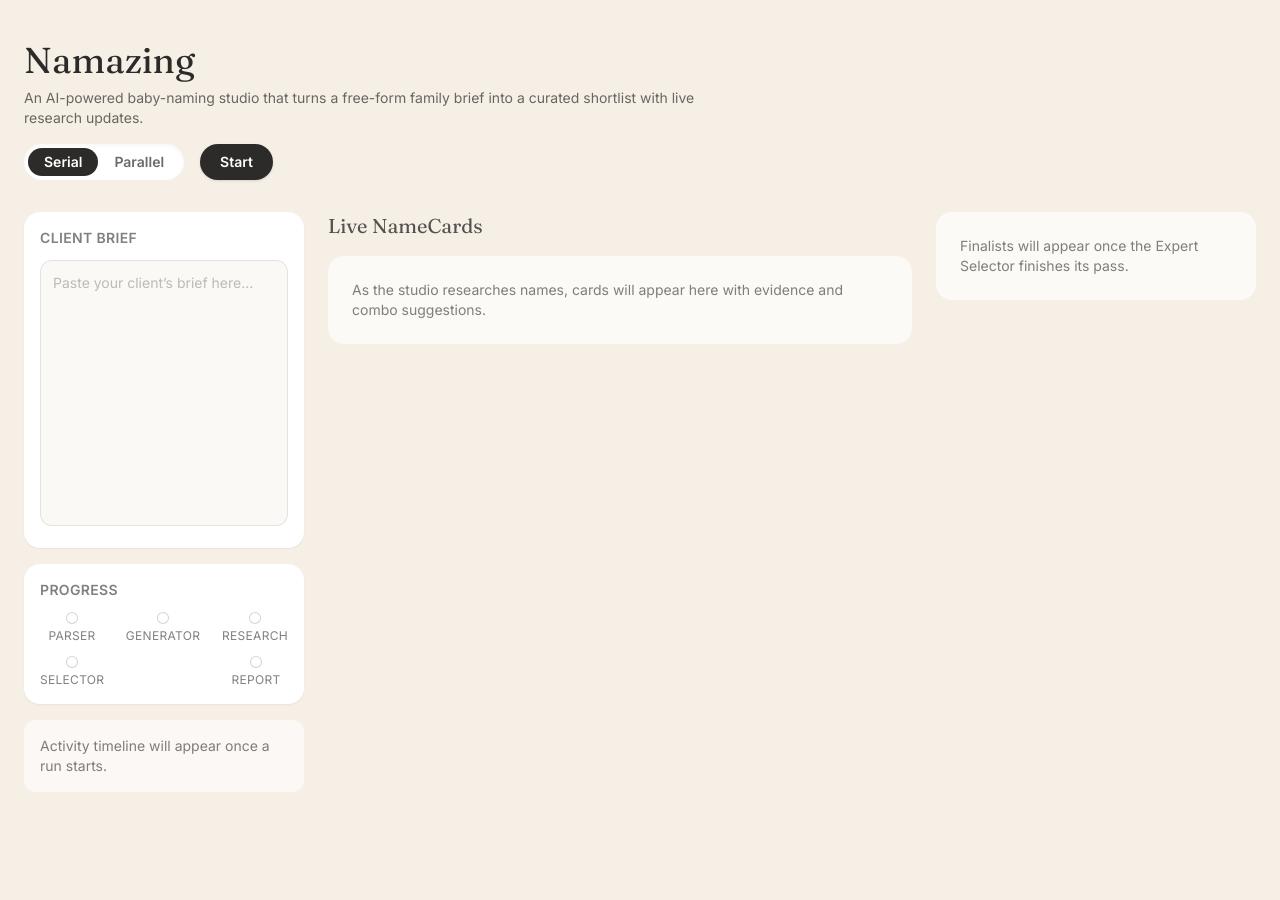
Test: StudioApp › Starting a run › shows "Running..." text while the run is in progress
Type "A brief" into the text box with placeholder "Paste your client’s brief here..." at (164, 393), box [40, 260, 288, 526]
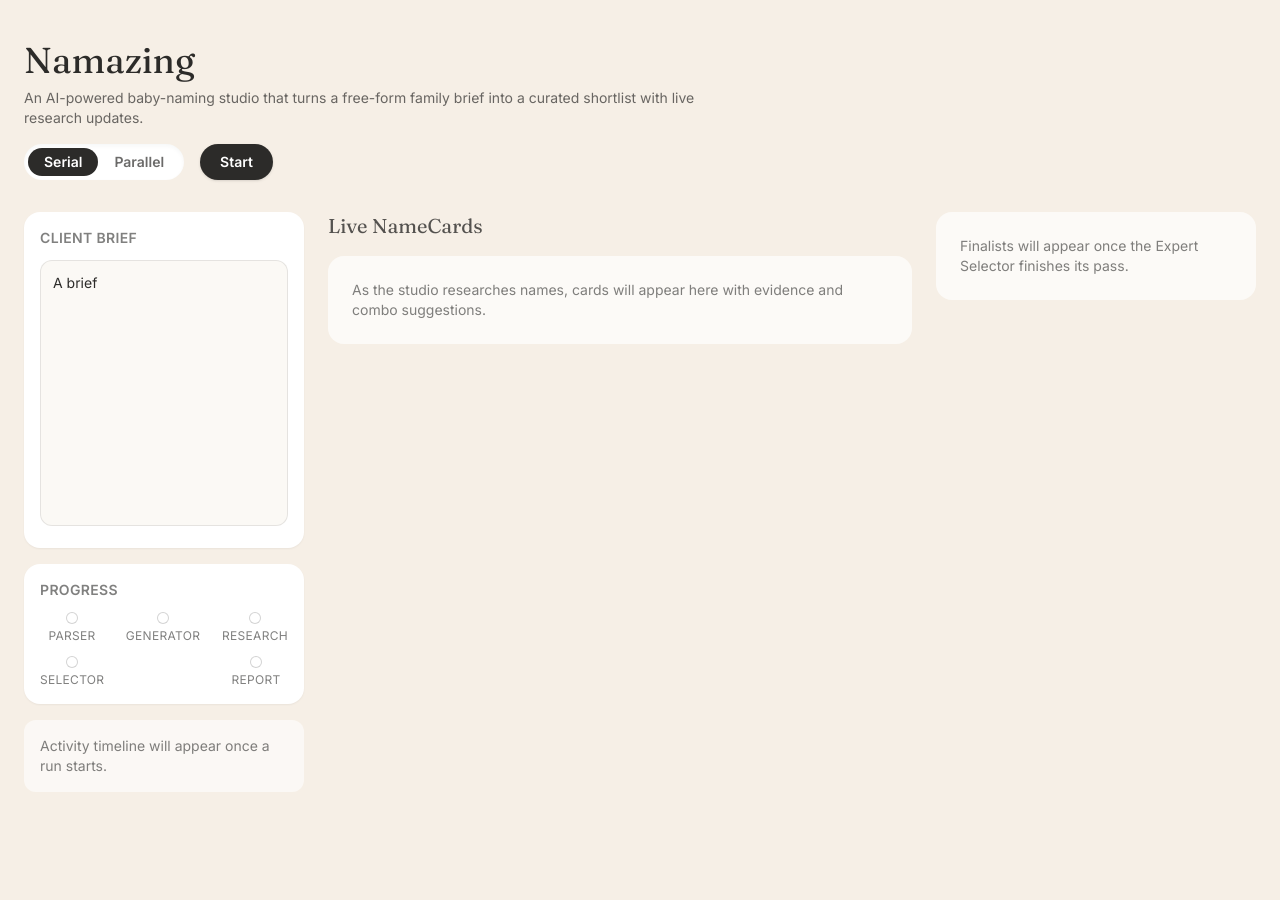
Click the button "Start" at (237, 162), box [200, 144, 273, 180]
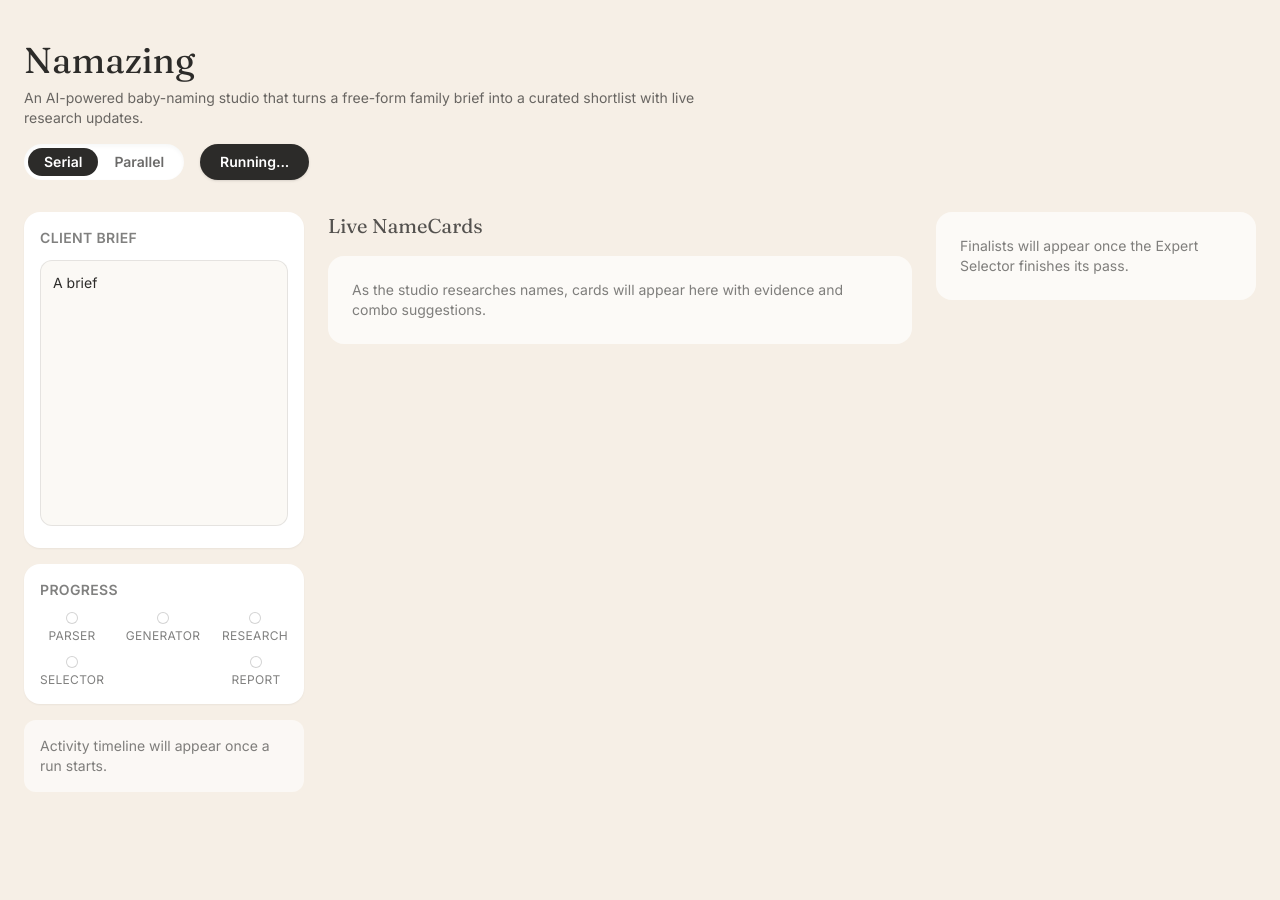
Check: the button "Running..." is shown, box [200, 144, 309, 180]
